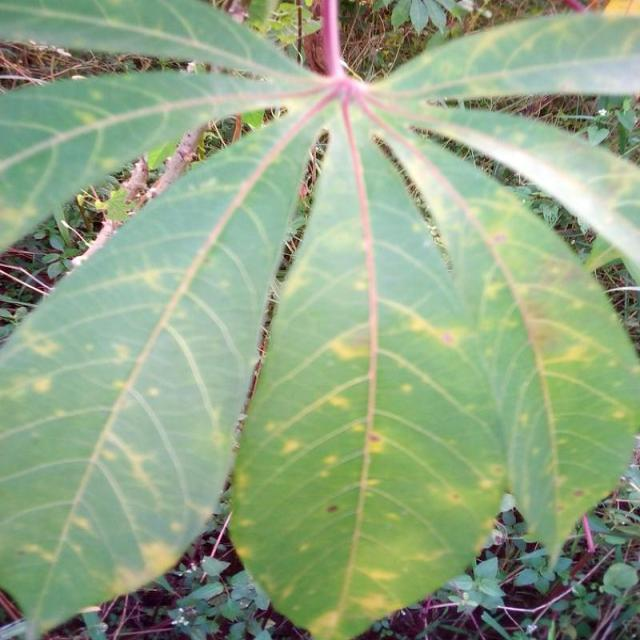cassava leaf: (2, 0, 640, 638), (1, 98, 332, 636)
